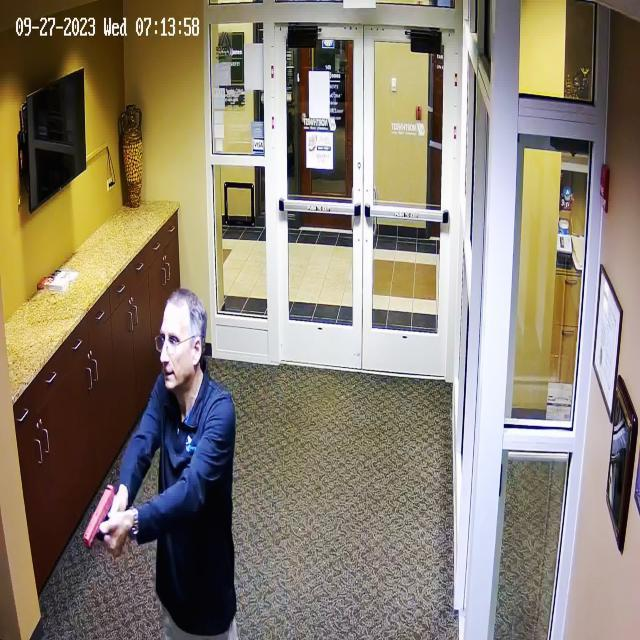Gun: (76, 482, 132, 556)
